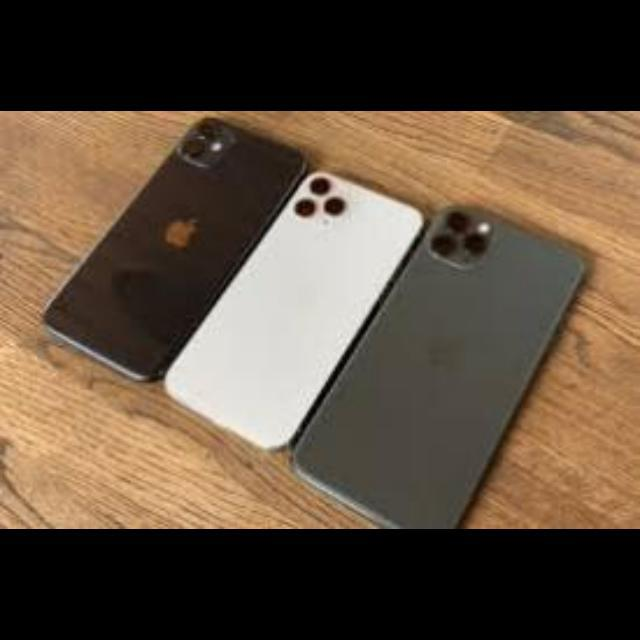Phone: (294, 206, 586, 528), (166, 172, 426, 450), (42, 119, 308, 384)
